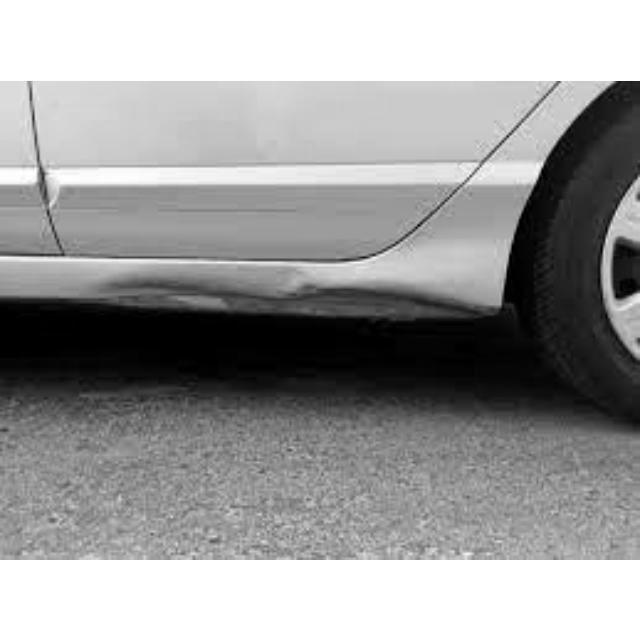Runningboard-Damage: (97, 261, 512, 327)
